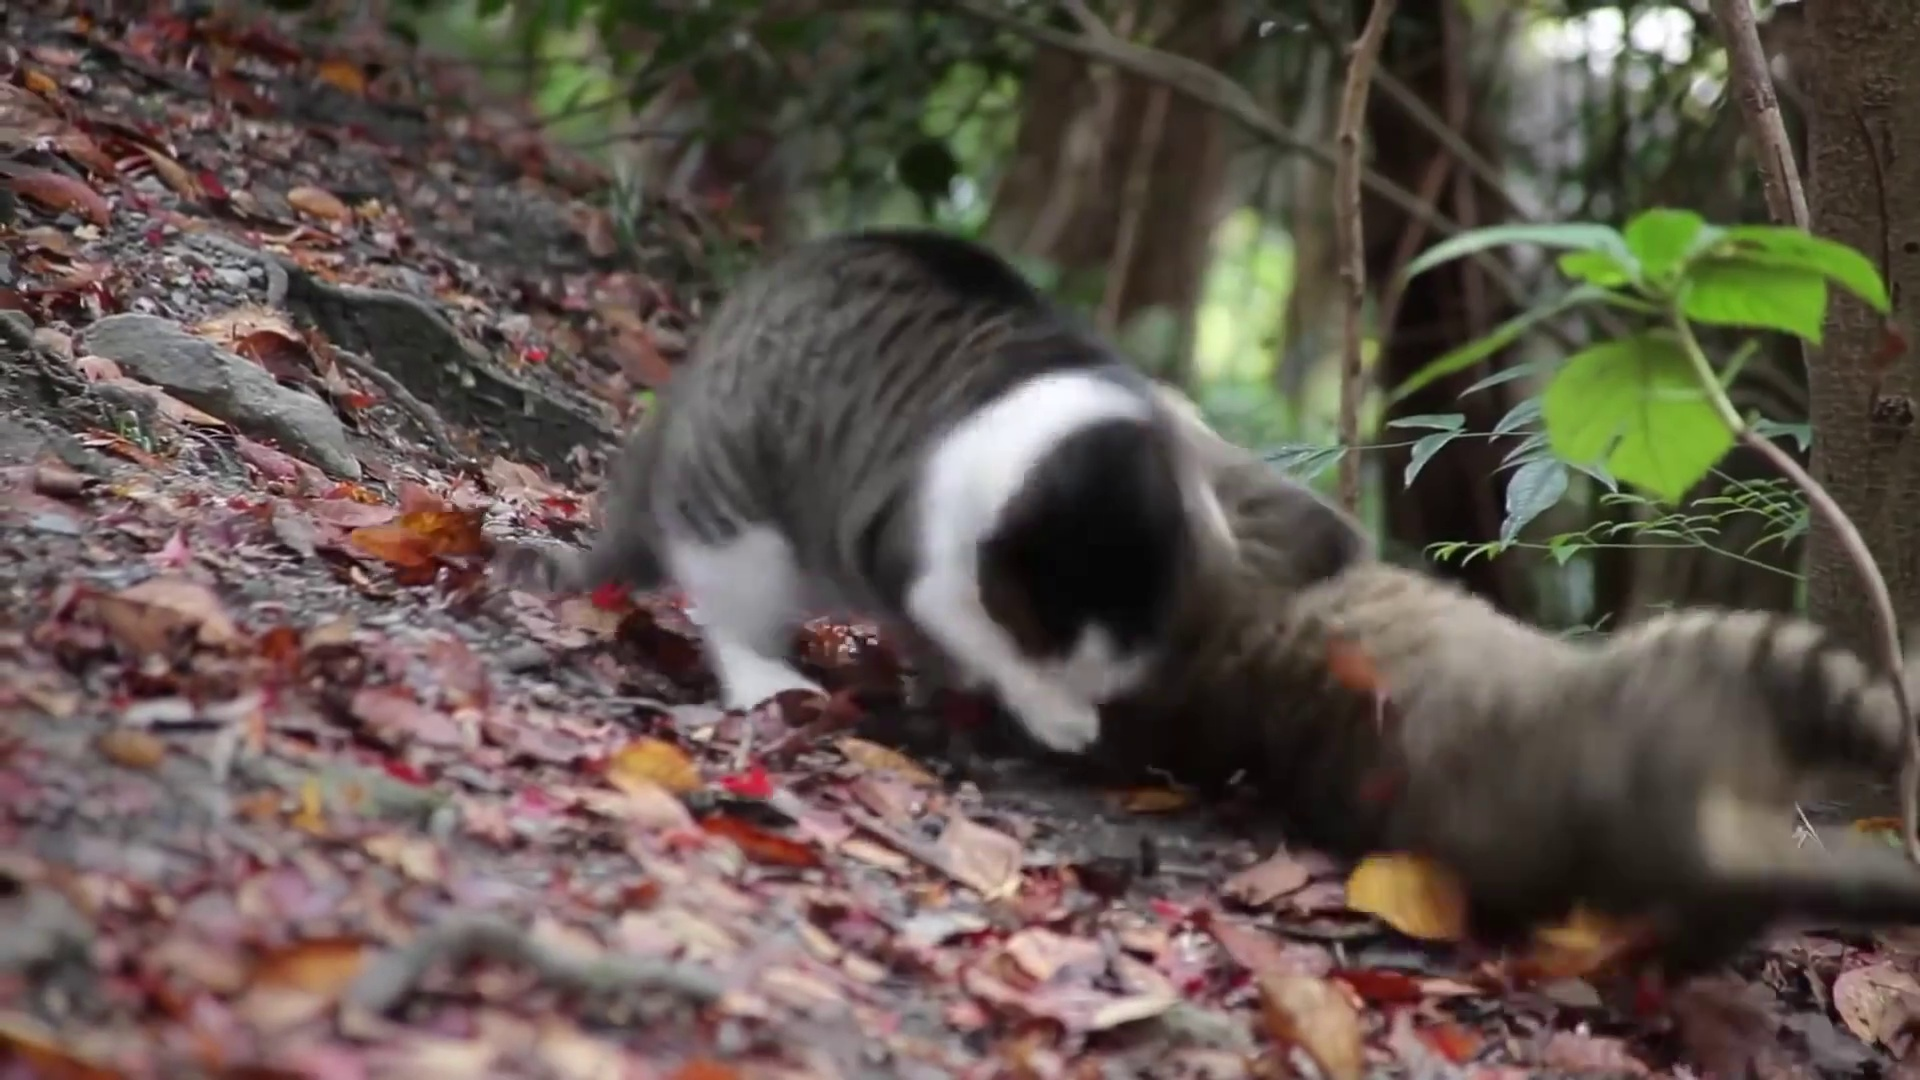black-white: (580, 232, 1356, 760)
pure black: (1084, 380, 1920, 920)
